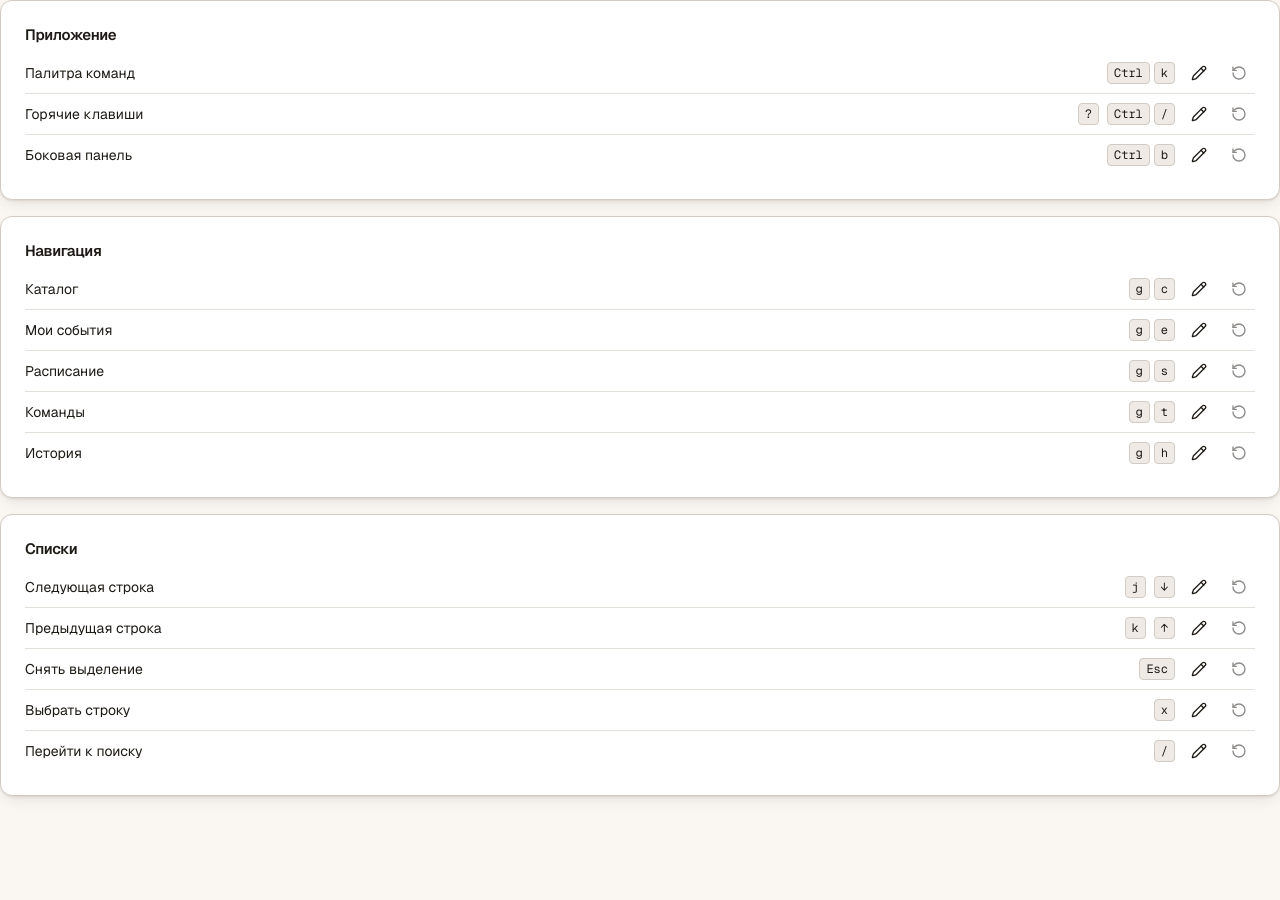
Test: refusing a combination, and saying why › refuses a key the interface needs to move focus
This screenshot has width=1280, height=900.
Click the button named "Изменить «Палитра команд»" at (1199,73), box x1=1183 y1=57 x2=1215 y2=89
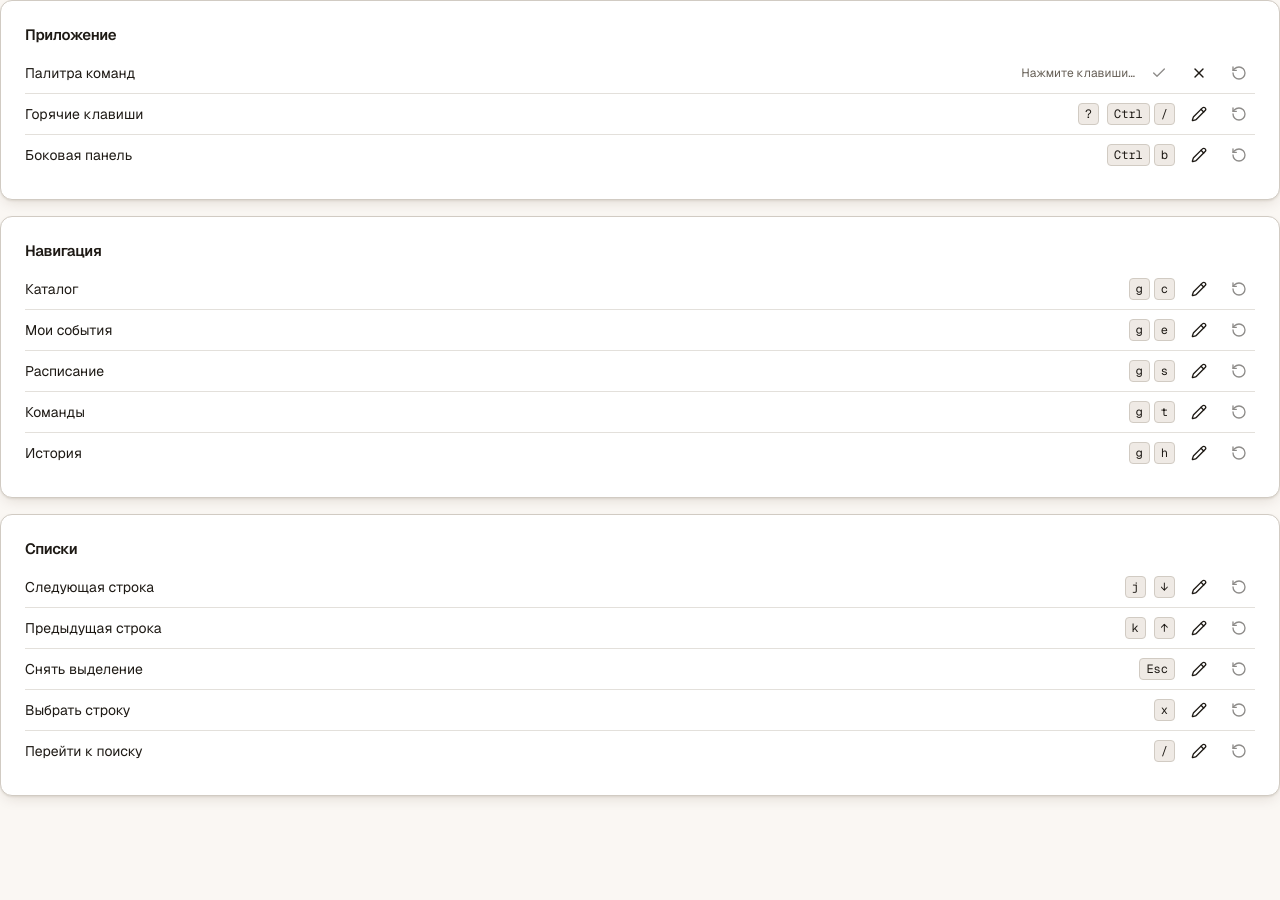
Press Tab
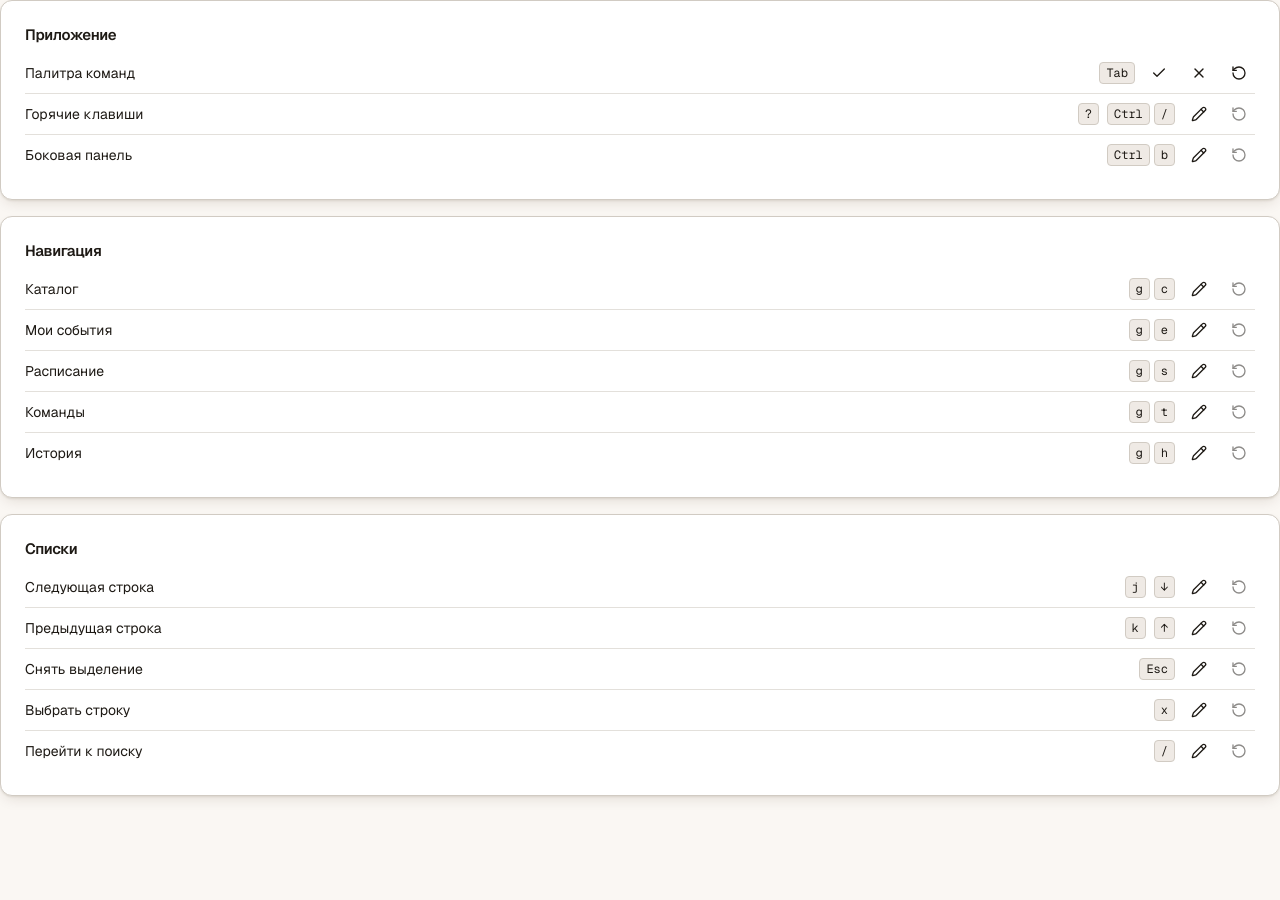
Click the button named "Сохранить «Палитра команд»" at (1159,73), box x1=1143 y1=57 x2=1175 y2=89
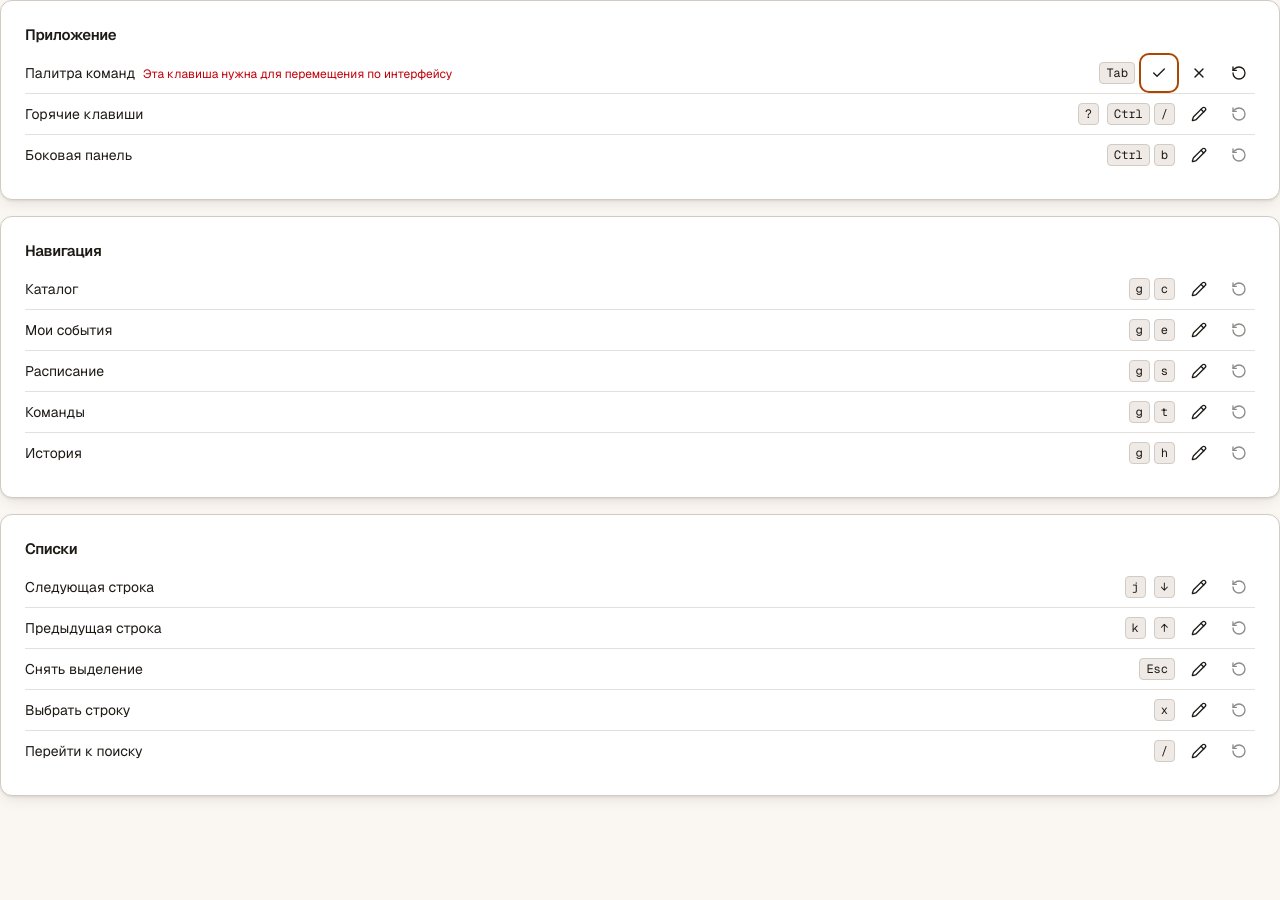
expect the message reads "Эта клавиша нужна для перемещения по интерфейсу": met, box x1=143 y1=66 x2=452 y2=82
